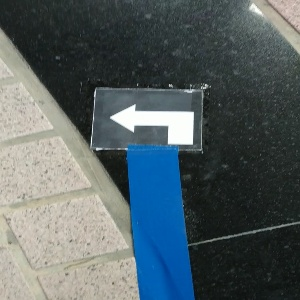left: (92, 87, 202, 152)
